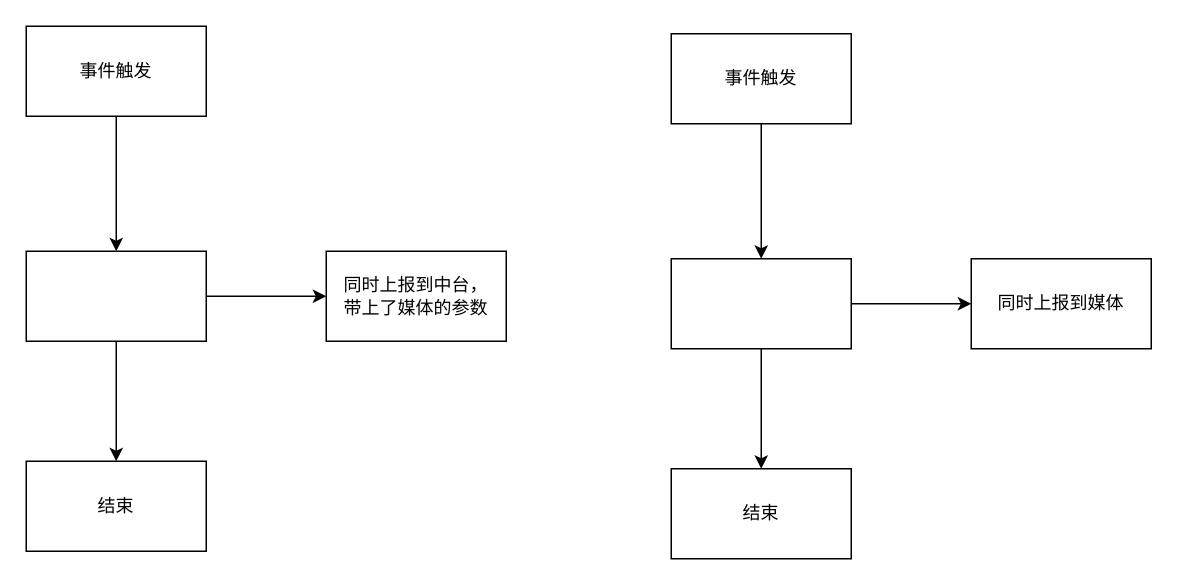
Some shapes in this 1178 by 585 pixel diagram are drawn without their labels. Here are the shapes that lost their labels. From the top down, the centre of each, then its label:
At pixel 115 295: "上报到媒体".
At pixel 760 303: "上报到埋点库， 媒体的参数？".
